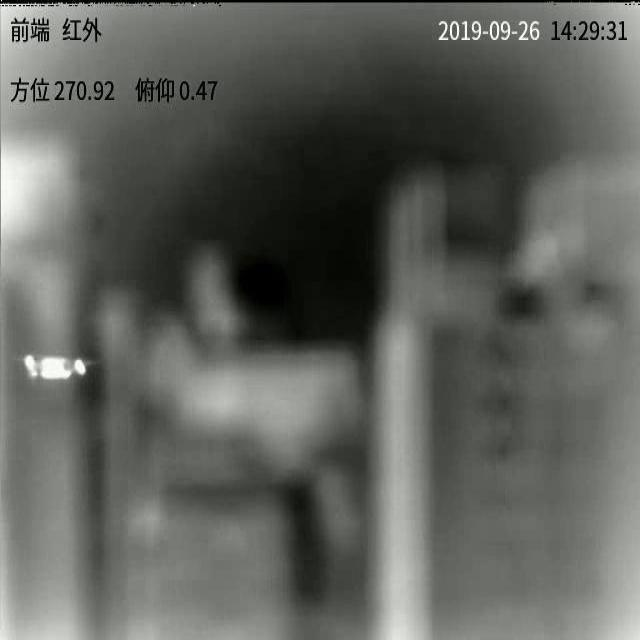drone: (23, 355, 87, 381)
